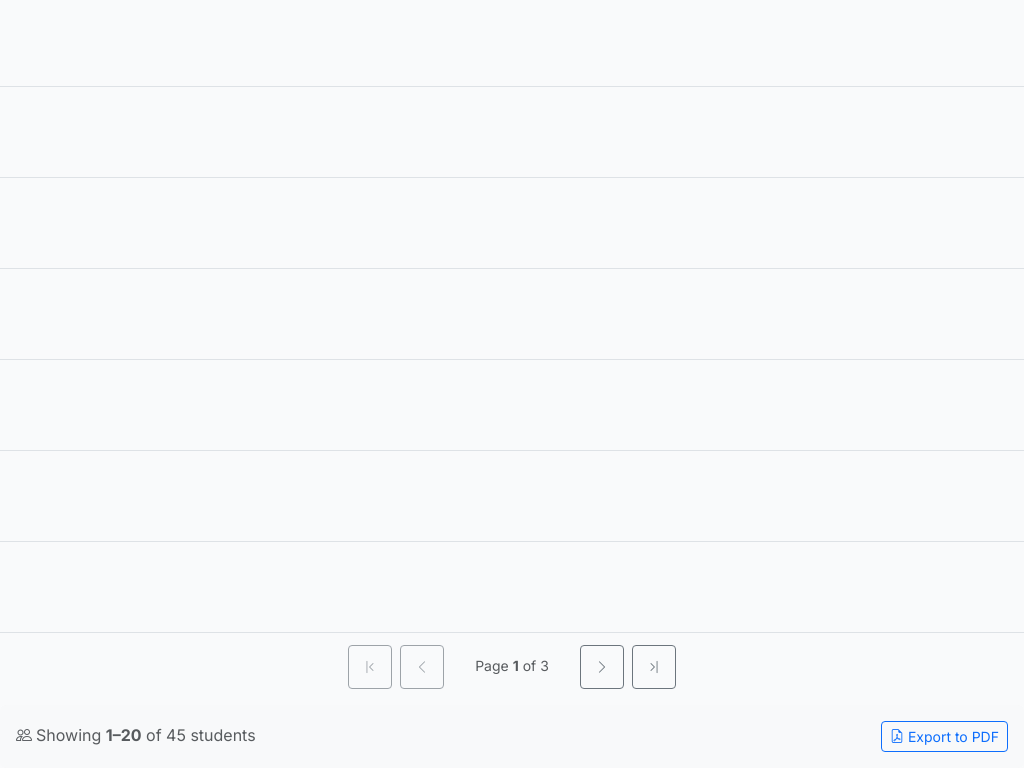
Test: 20 rows per page › the footer says which rows are shown, out of how many
This screenshot has width=1024, height=768.
(page scrolled)
Step 1. Click the button named "Next page" → (602, 667), box [580,645,624,689]
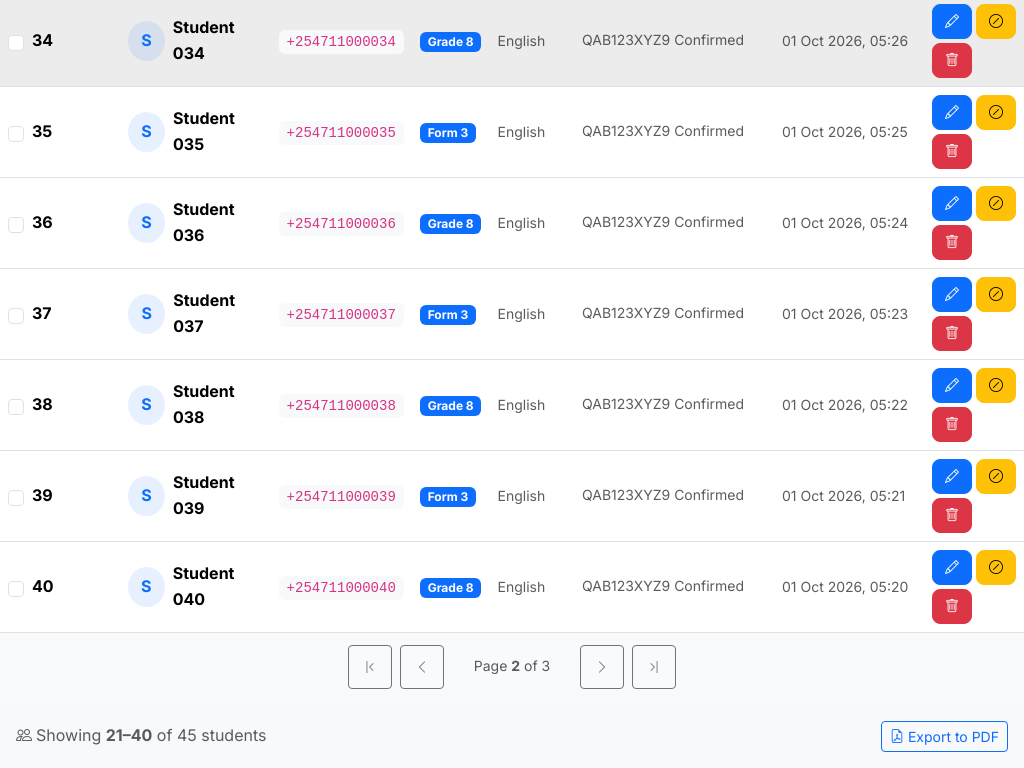
expect the element with test id "table-total" shows "21–40 of 45": met, box [16,723,266,749]
